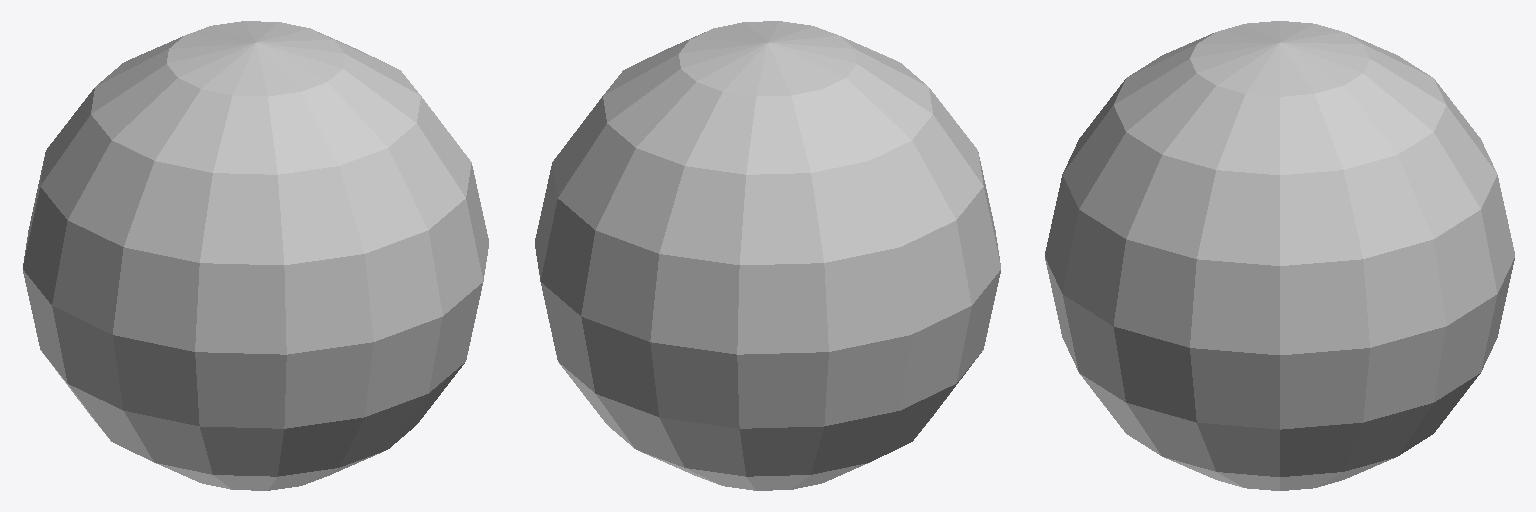
File: bola6.obj
3 renders of one model, left to right at view 1: azimuth 30°, elevation 25°; view 2: azimuth 150°, elevation 25°; view 3: azimuth 270°, elevation 25°, orthographic.
Parts seen in each view (by area): view 1: POOL_TABLE.030; view 2: POOL_TABLE.030; view 3: POOL_TABLE.030.
Part boxes in pixels (bbox=[...]): POOL_TABLE.030: bbox=[23, 21, 488, 490]; POOL_TABLE.030: bbox=[535, 21, 1000, 490]; POOL_TABLE.030: bbox=[1045, 21, 1514, 490].
Bounding box in the file's own units: 0.0585 × 0.0585 × 0.0585.